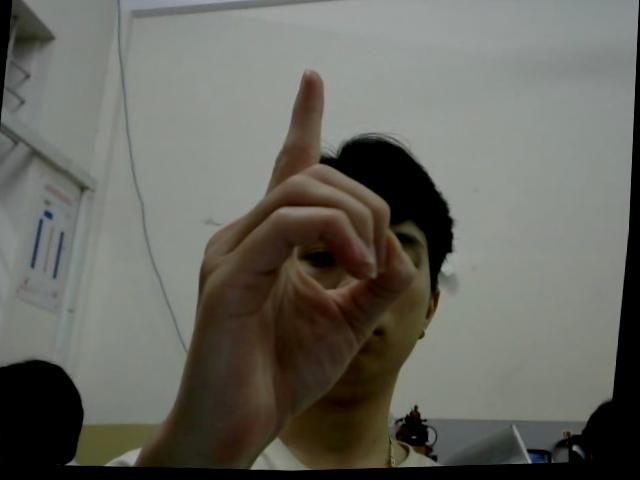D: (180, 60, 437, 458)
